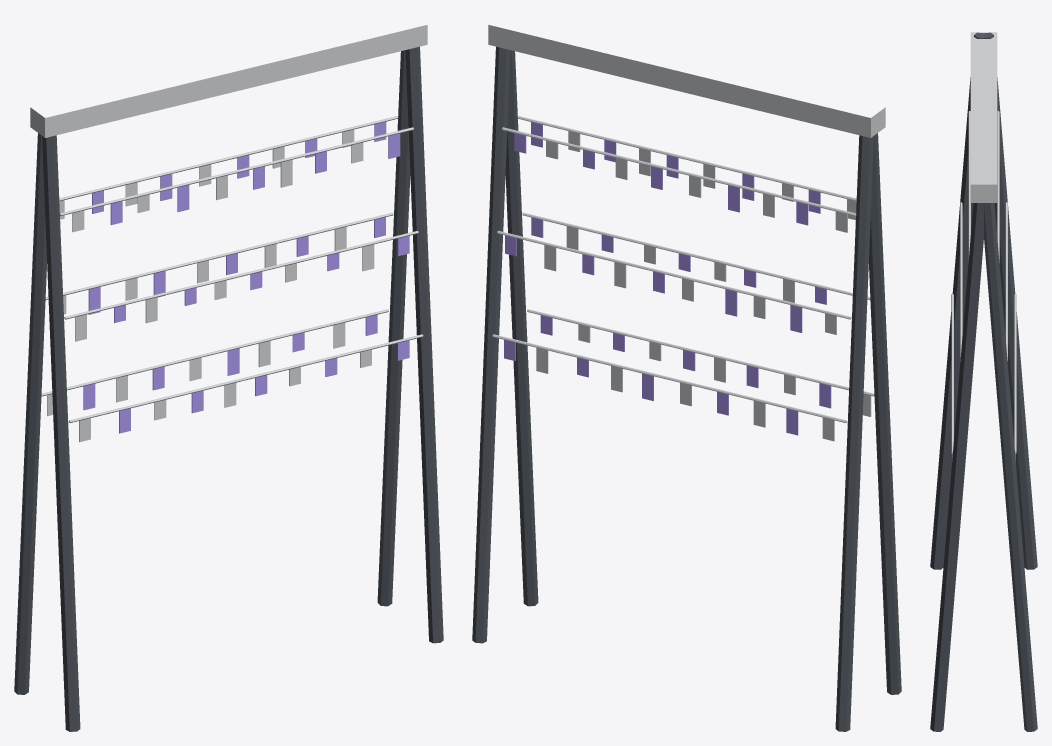
The model's file is ext_memorial_tag_rack_03.glb.
3 views of the same model, side by side, from view 1: azimuth 30°, elevation 25°; view 2: azimuth 150°, elevation 25°; view 3: azimuth 270°, elevation 25° (orthographic). The views are drawn at different scales.
Parts seen in each view (by area): view 1: Legs, Top_Rail, Wires, Tags_Violet, Tags_Ti; view 2: Legs, Top_Rail, Wires, Tags_Violet, Tags_Ti; view 3: Legs, Top_Rail, Wires.
Part boxes in pixels (box(x1,y1,x2,y2)): Legs: box(14, 46, 443, 731); Top_Rail: box(30, 25, 427, 137); Wires: box(41, 116, 423, 422); Tags_Violet: box(83, 122, 409, 433); Tags_Ti: box(47, 129, 374, 442); Legs: box(472, 46, 901, 731); Top_Rail: box(488, 25, 885, 137); Wires: box(492, 116, 874, 422); Tags_Violet: box(504, 122, 831, 435); Tags_Ti: box(536, 131, 871, 441); Legs: box(930, 32, 1037, 731); Top_Rail: box(970, 32, 997, 202); Wires: box(951, 111, 1016, 453).
Bounding box in the file's own units: 1.2 × 1.8 × 0.3198.
